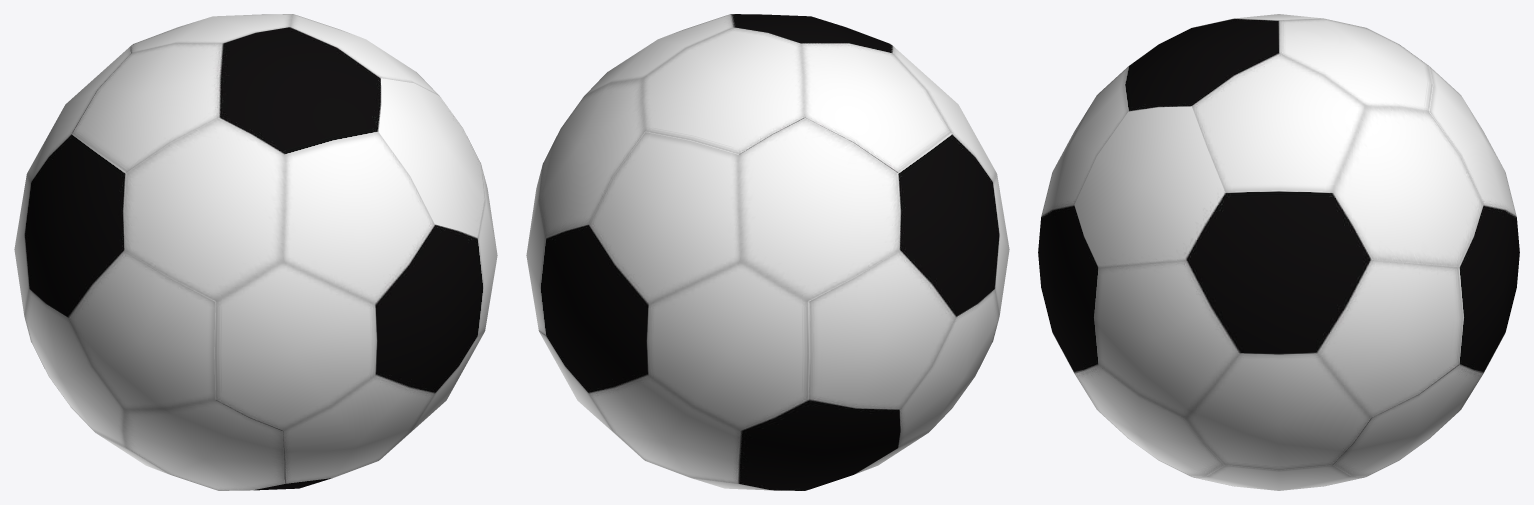
The model's file is FootBall_1.FBX.
3 views of the same model, side by side, from view 1: azimuth 30°, elevation 25°; view 2: azimuth 150°, elevation 25°; view 3: azimuth 270°, elevation 25° (orthographic).
Visible parts, largest first — view 1: FootBall_1; view 2: FootBall_1; view 3: FootBall_1.
Boxes of the visible parts, x1,y1,x2,y2 form: FootBall_1: (14,14,497,490); FootBall_1: (526,14,1009,490); FootBall_1: (1038,14,1519,490).
Bounding box in the file's own units: 2.5 × 2.5 × 2.5.
